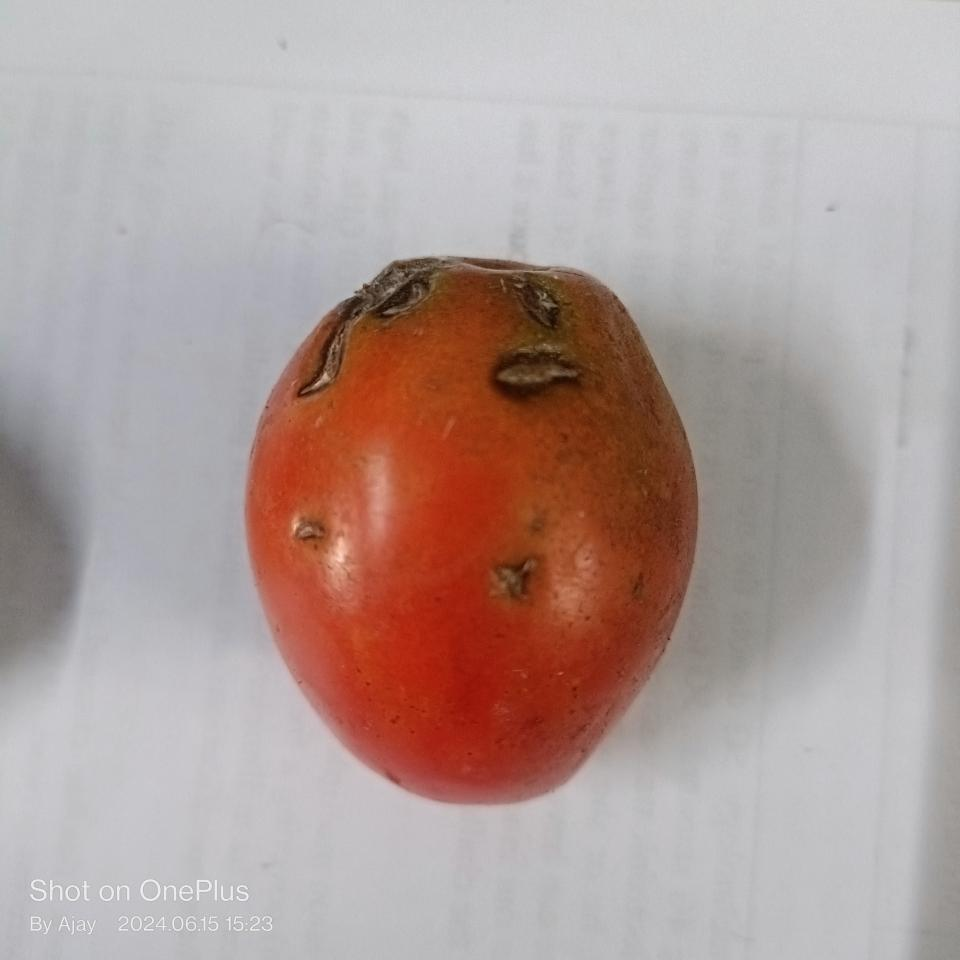Cracking: (296, 257, 475, 411), (479, 342, 598, 400)
